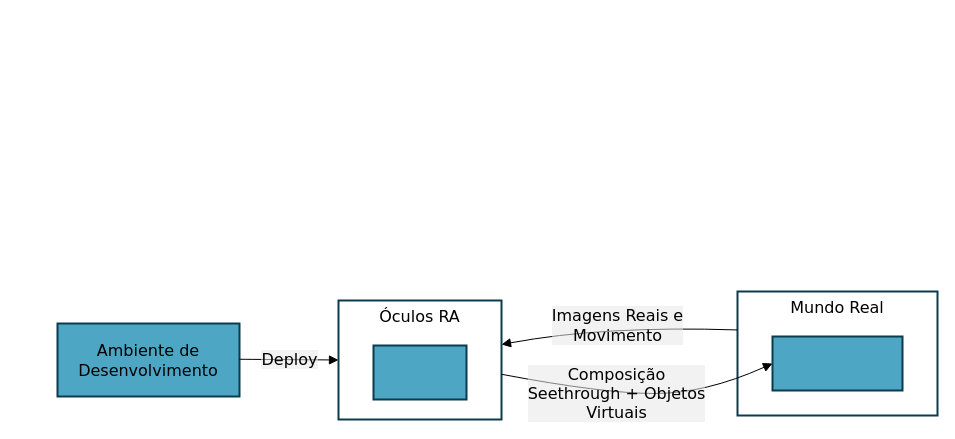
Some shapes in this 955 by 439 pixel diagram are drawn without their labels. The shapes that lost their labels are listed below. From the top down, each one's centre as x and y in pixels, then its label:
the point at 419,372: Jogo
the point at 837,363: Utilizador
